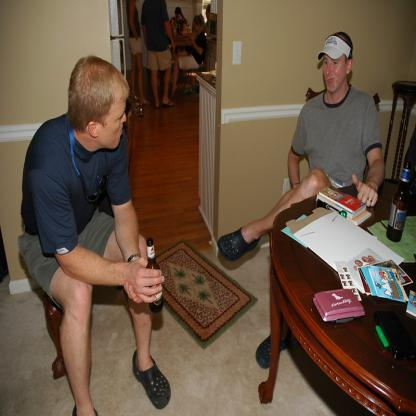drinking: (387, 160, 412, 242), (145, 237, 164, 313)
